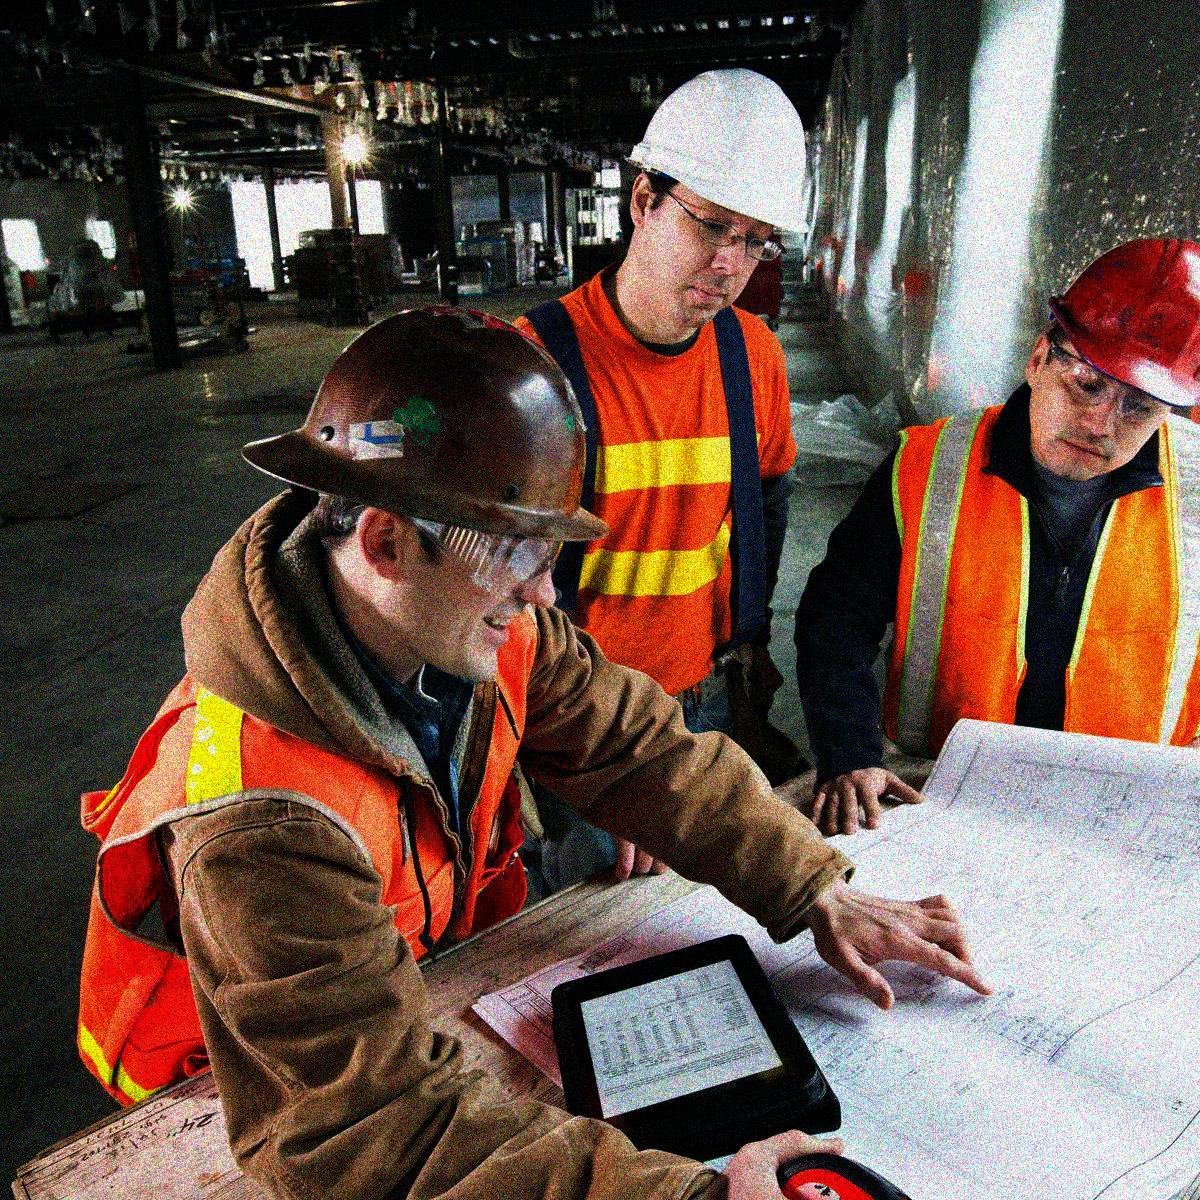helmet: (241, 295, 619, 698), (613, 60, 819, 329), (1030, 238, 1200, 484)
